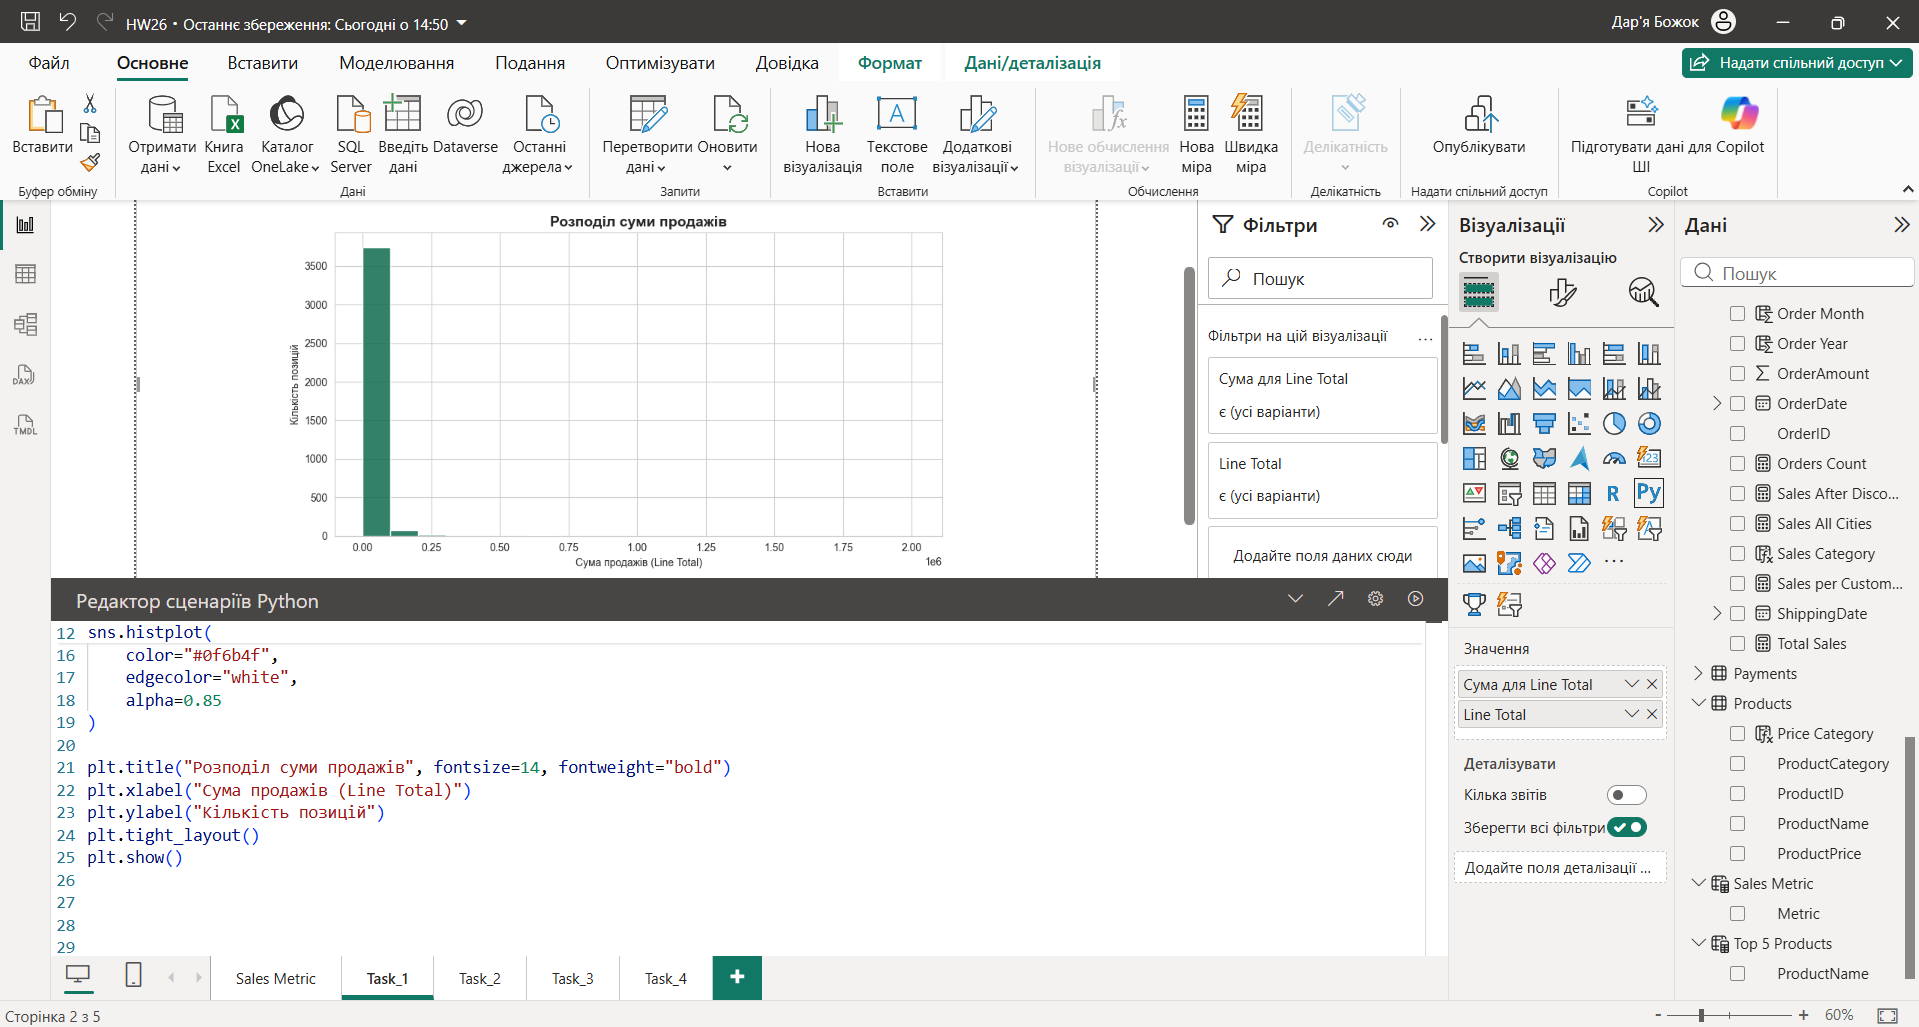

This screenshot's page, from the dashboard's own definition file:
{"tool":"powerbi","page":{"name":"Task_1","canvas":[1280,720],"ordinal":1},"visuals":[{"type":"pythonVisual","fields":{"Values":["Sum(Order_Details.Line Total)","Order_Details.Line Total"]},"box":[0,0,1280,720],"z":0}]}

Visuals, with their boxes on the page's 1280x720 design canvas (x1, y1, x2, y2). These are canvas units, not pixel positions in the 1919x1027 screenshot, which may show the page scaled, cropped or inside an application window:
pythonVisual - Sum(Order_Details.Line Total) x Order_Details.Line Total: region(0, 0, 1280, 720)
